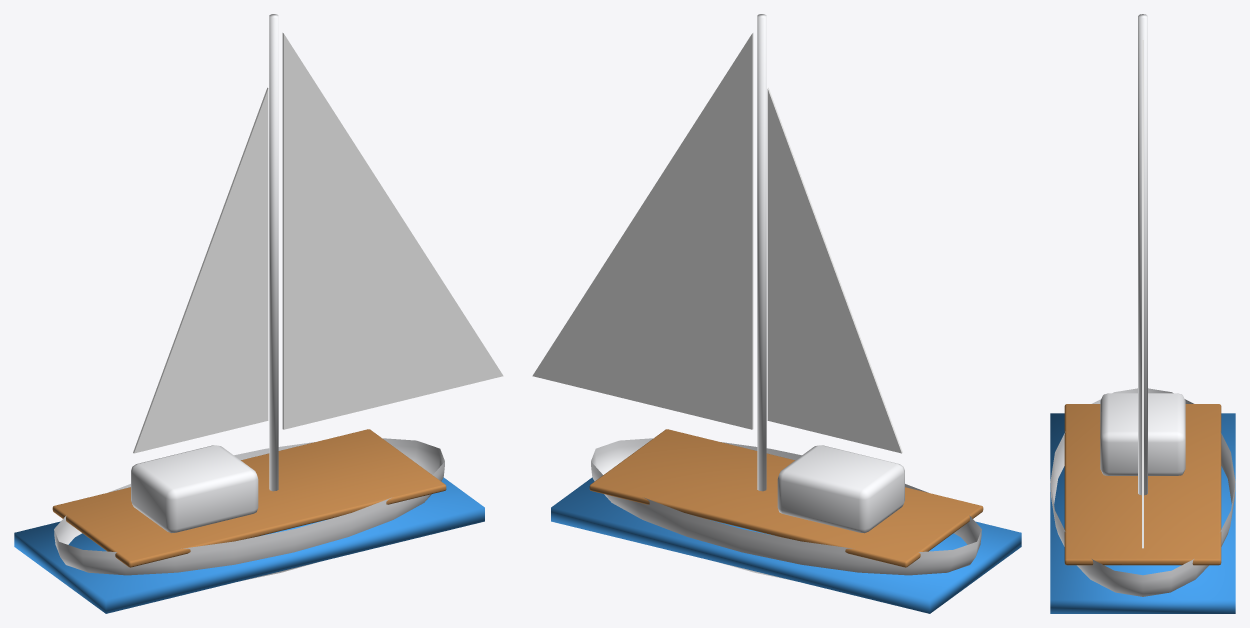
File: sailboat.glb
3 views of the same model, side by side, from view 1: azimuth 30°, elevation 25°; view 2: azimuth 150°, elevation 25°; view 3: azimuth 270°, elevation 25° (orthographic).
Parts seen in each view (by area): view 1: sailboat; view 2: sailboat; view 3: sailboat.
Boxes of the visible parts, bbox=[...] form: sailboat: bbox=[14, 14, 503, 613]; sailboat: bbox=[532, 14, 1021, 613]; sailboat: bbox=[1050, 14, 1235, 613].
Bounding box in the file's own units: 7.27 × 8.4 × 2.6.
